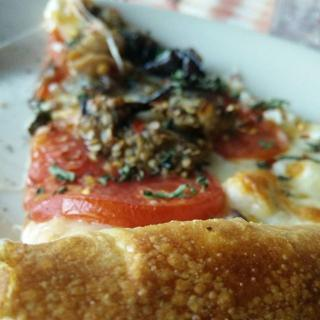tomato: (28, 165, 225, 232)
